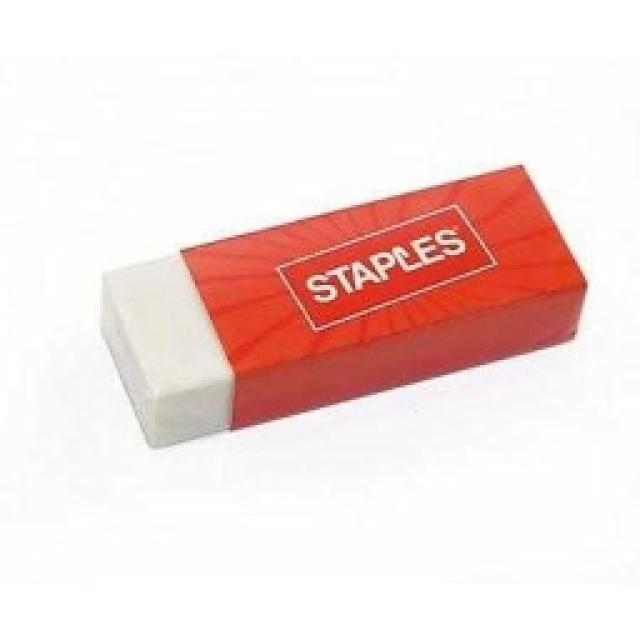Silgi: (99, 161, 589, 448)
